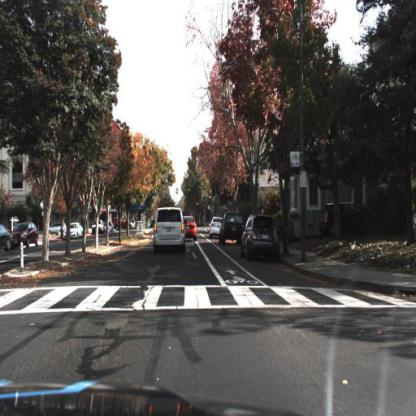car: (239, 213, 285, 263), (318, 201, 373, 238), (152, 204, 189, 256), (10, 220, 42, 249), (218, 207, 241, 247), (62, 217, 85, 243), (113, 215, 134, 236), (187, 212, 199, 248), (208, 213, 222, 242), (92, 217, 107, 241), (49, 218, 67, 237)
trafficLight-Red: (188, 188, 192, 200), (196, 201, 200, 213), (210, 194, 214, 206)
